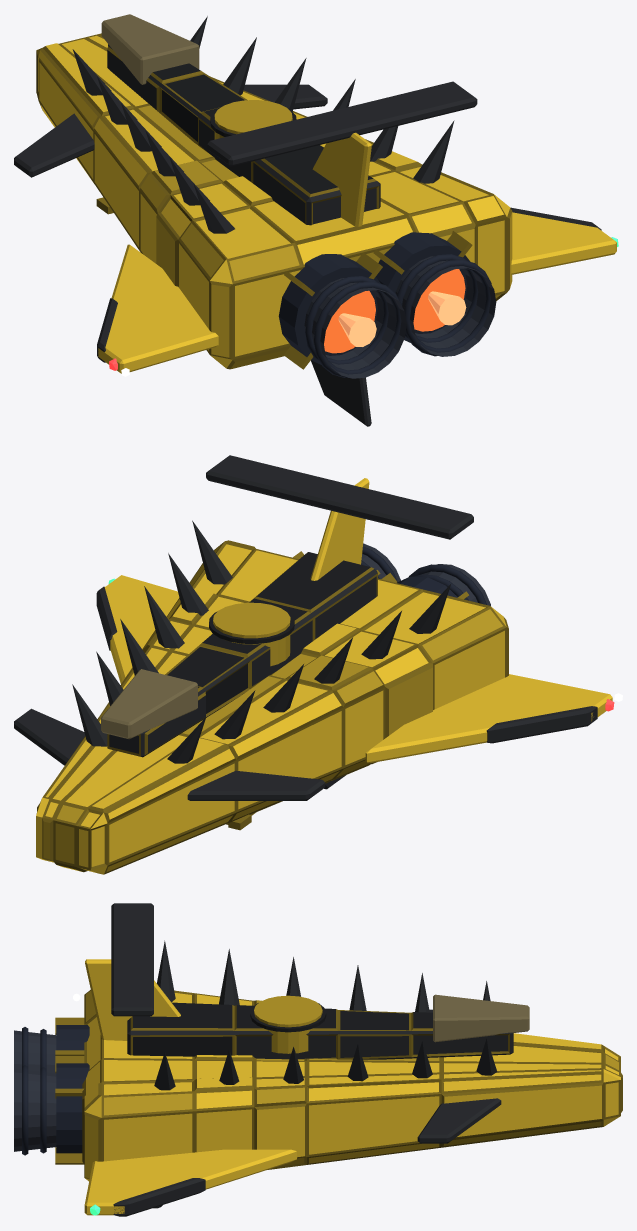
Rendered from hornet.glb.
The picture shows the model from 3 angles, top to bottom: view 1: azimuth 30°, elevation 25°; view 2: azimuth 150°, elevation 25°; view 3: azimuth 270°, elevation 25°; orthographic projection. The views are drawn at different scales.
Parts seen in each view (by area): view 1: hornet_mesh; view 2: hornet_mesh; view 3: hornet_mesh.
Part boxes in pixels (x1,y1,x2,y2): hornet_mesh: (14, 14, 618, 426); hornet_mesh: (14, 455, 614, 874); hornet_mesh: (14, 903, 622, 1216).
Bounding box in the file's own units: 7.66 × 4.15 × 9.08.
